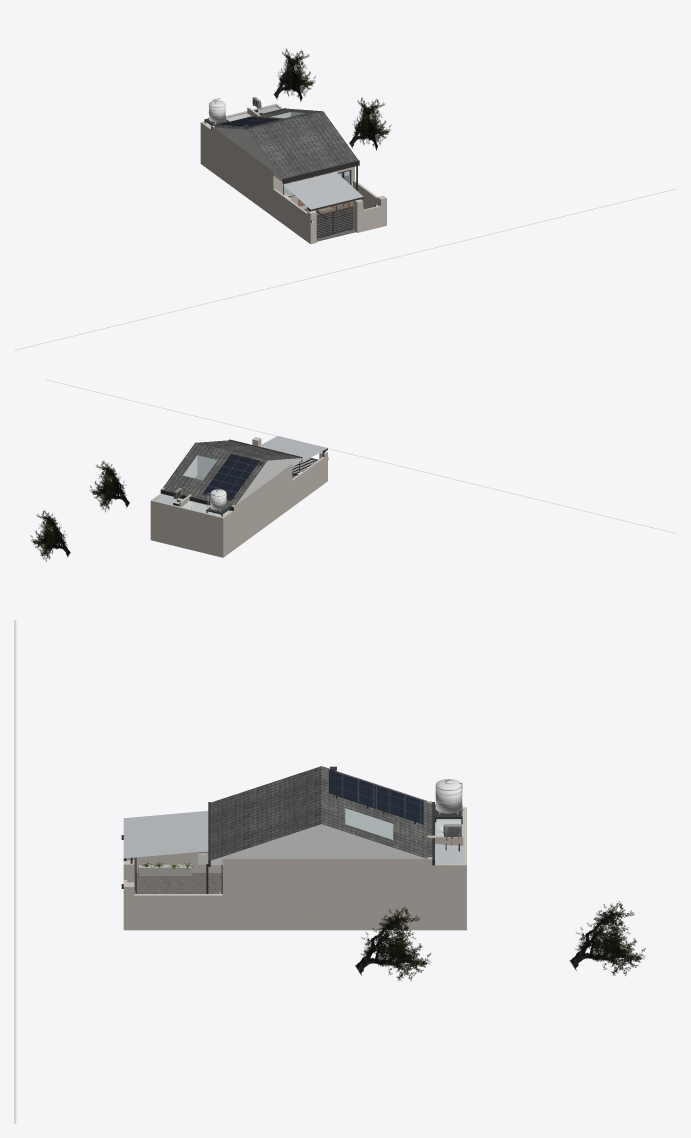
3 renders of one model, top to bottom at view 1: azimuth 30°, elevation 25°; view 2: azimuth 150°, elevation 25°; view 3: azimuth 270°, elevation 25°, orthographic. The views are drawn at different scales.
Visible parts, largest first — view 1: STATIC_main_tabrak, TREE_D_island_tree_01.001, TREE_D_island_tree_01, STATIC_ground_lewat; view 2: STATIC_main_tabrak, TREE_D_island_tree_01, TREE_D_island_tree_01.001, STATIC_ground_lewat; view 3: STATIC_main_tabrak, TREE_D_island_tree_01.001, TREE_D_island_tree_01, STATIC_ground_lewat.
Part boxes in pixels (bbox=[...]): STATIC_main_tabrak: bbox=[200, 97, 386, 244]; TREE_D_island_tree_01.001: bbox=[273, 48, 315, 102]; TREE_D_island_tree_01: bbox=[349, 97, 390, 150]; STATIC_ground_lewat: bbox=[14, 188, 676, 350]; STATIC_main_tabrak: bbox=[150, 436, 328, 557]; TREE_D_island_tree_01: bbox=[90, 460, 129, 512]; TREE_D_island_tree_01.001: bbox=[30, 510, 70, 561]; STATIC_ground_lewat: bbox=[46, 379, 676, 533]; STATIC_main_tabrak: bbox=[121, 766, 466, 930]; TREE_D_island_tree_01.001: bbox=[569, 901, 645, 975]; TREE_D_island_tree_01: bbox=[355, 906, 430, 980]; STATIC_ground_lewat: bbox=[14, 620, 16, 1123].
Size of what is drawn, in the model's own units: 50 by 6.3 by 27.8.
66 materials, 14 textured.
